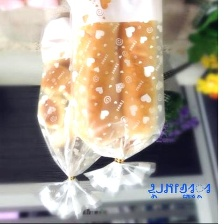snack: (61, 0, 171, 197), (29, 12, 113, 222)
